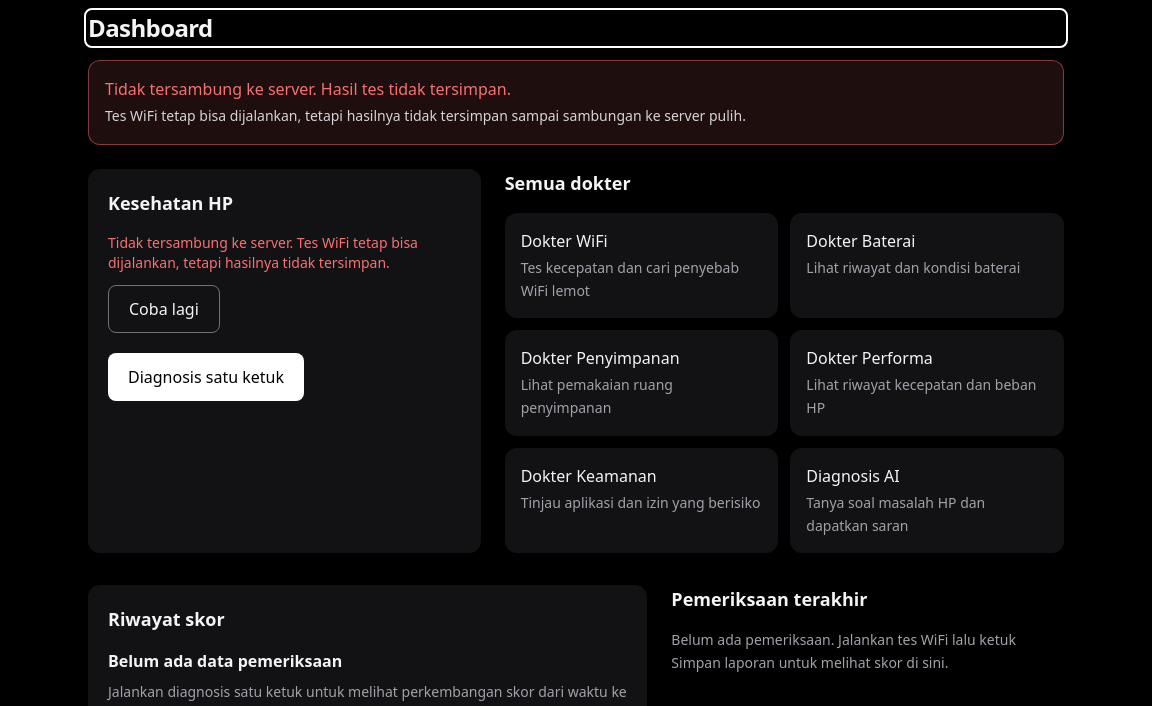
Test: DashboardPage v2.0 › galat jaringan: pesan + Coba lagi; retry yang berhasil menampilkan data
Click the button "Coba lagi": (164, 309) 108,285 -> 220,333
(page scrolled)
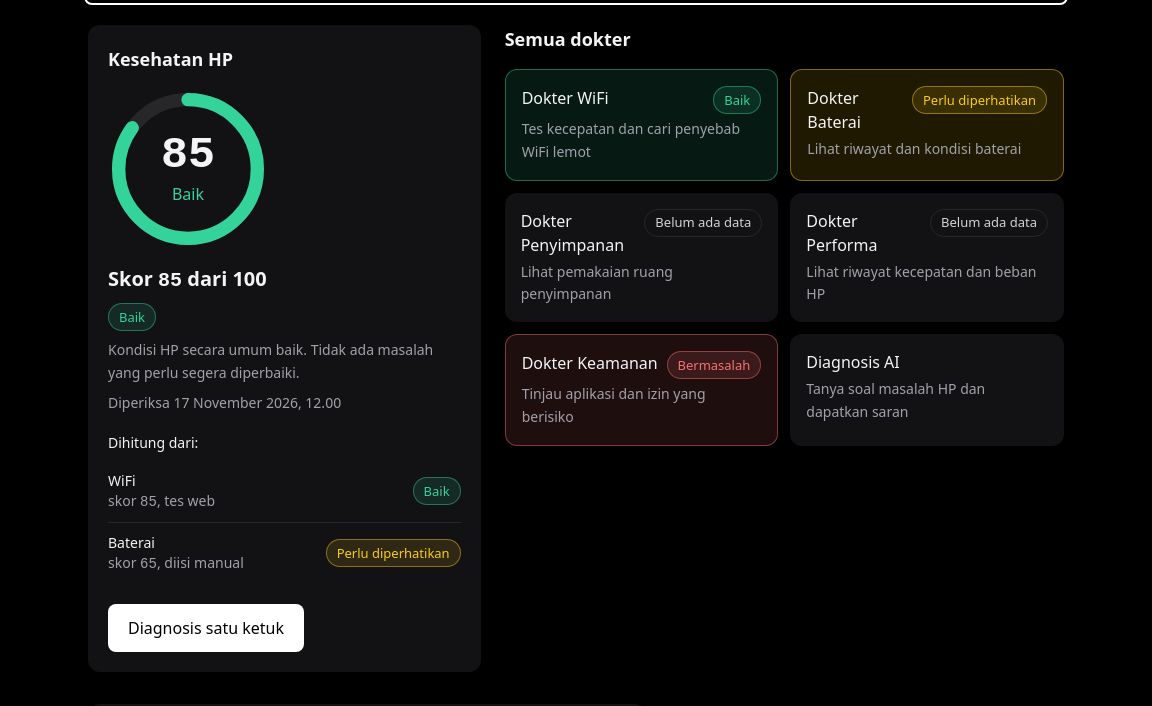
Result: the element that starts with "Kesehatan HP" shows "85" at 161,130 -> 215,180
Result: the message is gone
